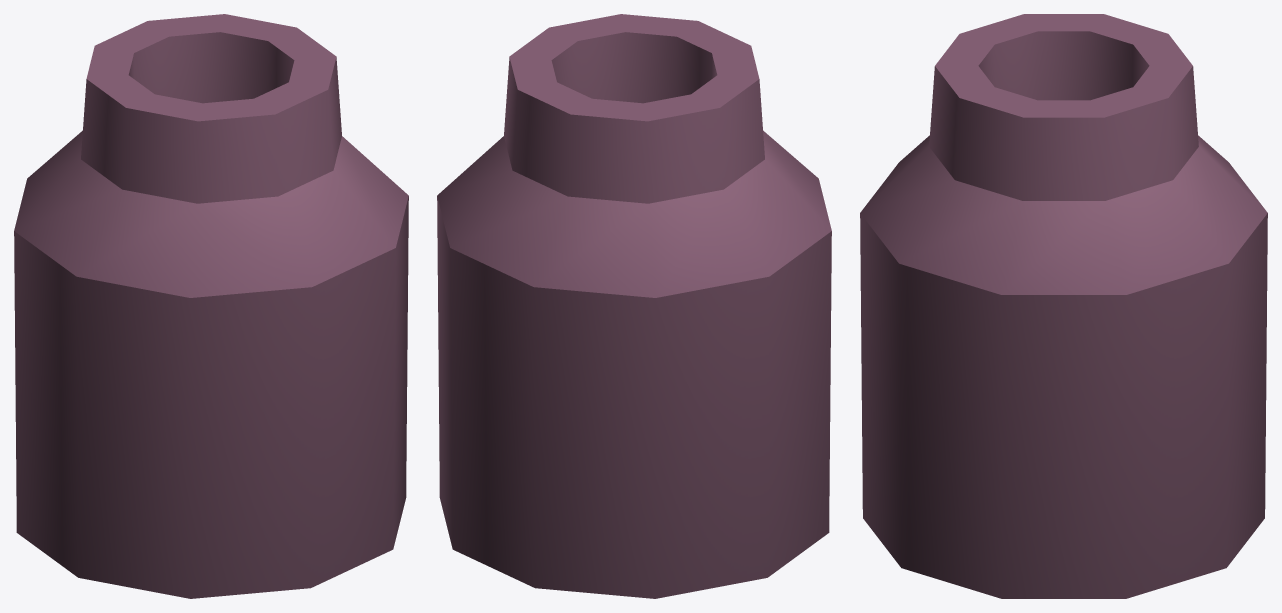
The model's file is Bottle_F.fbx.
3 views of the same model, side by side, from view 1: azimuth 30°, elevation 25°; view 2: azimuth 150°, elevation 25°; view 3: azimuth 270°, elevation 25° (orthographic).
Visible parts, largest first — view 1: Bottle_F; view 2: Bottle_F; view 3: Bottle_F.
Boxes of the visible parts, x1=… form: Bottle_F: x1=14, y1=14, x2=408, y2=598; Bottle_F: x1=437, y1=14, x2=831, y2=598; Bottle_F: x1=860, y1=14, x2=1267, y2=598.
Bounding box in the file's own units: 19.21 × 24.72 × 20.2.
